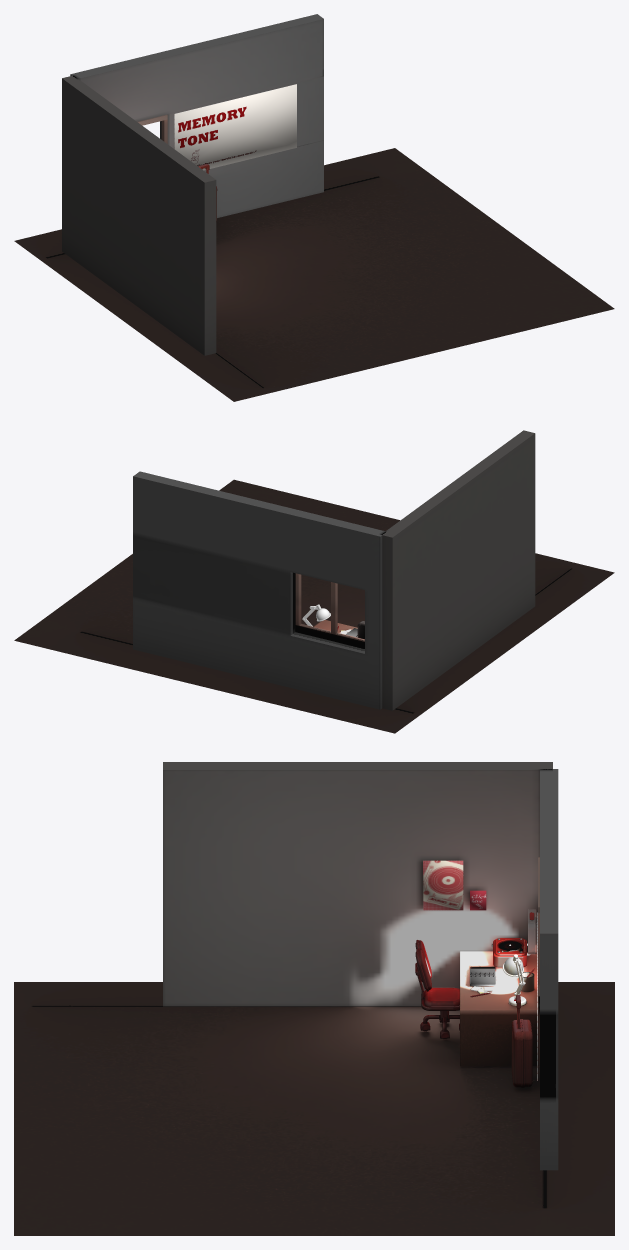
The model's file is test1glb.glb.
The picture shows the model from 3 angles, top to bottom: view 1: azimuth 30°, elevation 25°; view 2: azimuth 150°, elevation 25°; view 3: azimuth 270°, elevation 25°; orthographic projection. The views are drawn at different scales.
Visible parts, largest first — view 1: 평면.003, 큐브.004, 큐브.005, Body152; view 2: 큐브.005, 큐브.004, 평면.003, 큐브.001; view 3: 평면.003, 큐브.004, 큐브.005, Body57, Body136, Body128, Body142, body (1).
Boxes of the visible parts, bbox=[...] form: 평면.003: bbox=[14, 148, 614, 401]; 큐브.004: bbox=[62, 75, 216, 355]; 큐브.005: bbox=[70, 14, 323, 217]; Body152: bbox=[174, 84, 296, 170]; 큐브.005: bbox=[133, 471, 384, 709]; 큐브.004: bbox=[381, 430, 535, 710]; 평면.003: bbox=[14, 479, 614, 733]; 큐브.001: bbox=[295, 573, 364, 648]; 평면.003: bbox=[14, 982, 614, 1235]; 큐브.004: bbox=[163, 762, 552, 1006]; 큐브.005: bbox=[540, 769, 558, 1170]; Body57: bbox=[460, 951, 538, 1066]; Body136: bbox=[423, 860, 463, 910]; Body128: bbox=[415, 940, 459, 1039]; Body142: bbox=[511, 995, 532, 1087]; body (1): bbox=[493, 938, 526, 967].
Size of the model in its own units: 8.16 by 3.63 by 8.16.
Materials: 28 (23 with a texture image).
